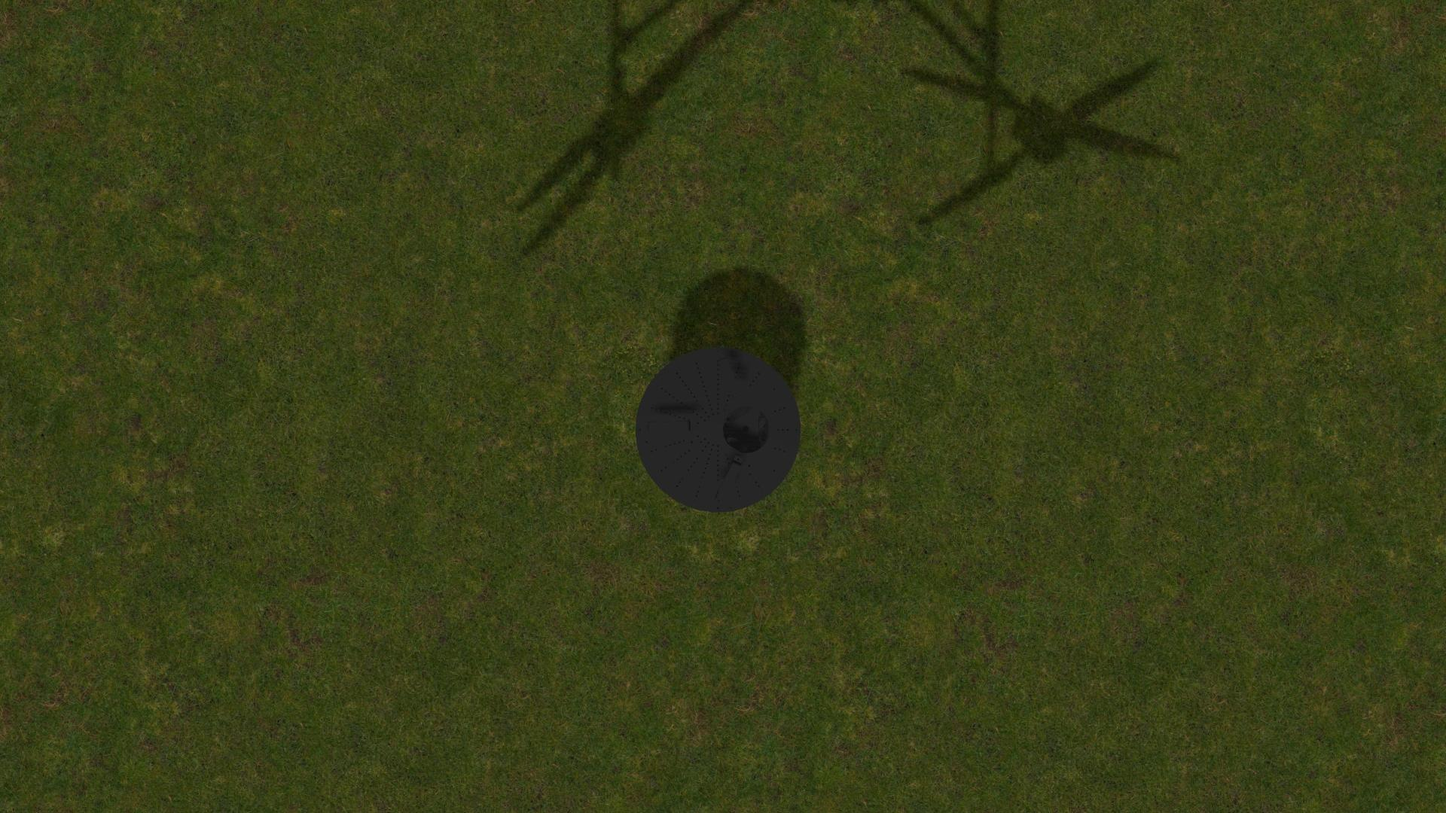alca: (713, 455, 744, 505), (715, 353, 744, 403), (643, 420, 696, 432)
armadilha: (635, 347, 801, 513)
